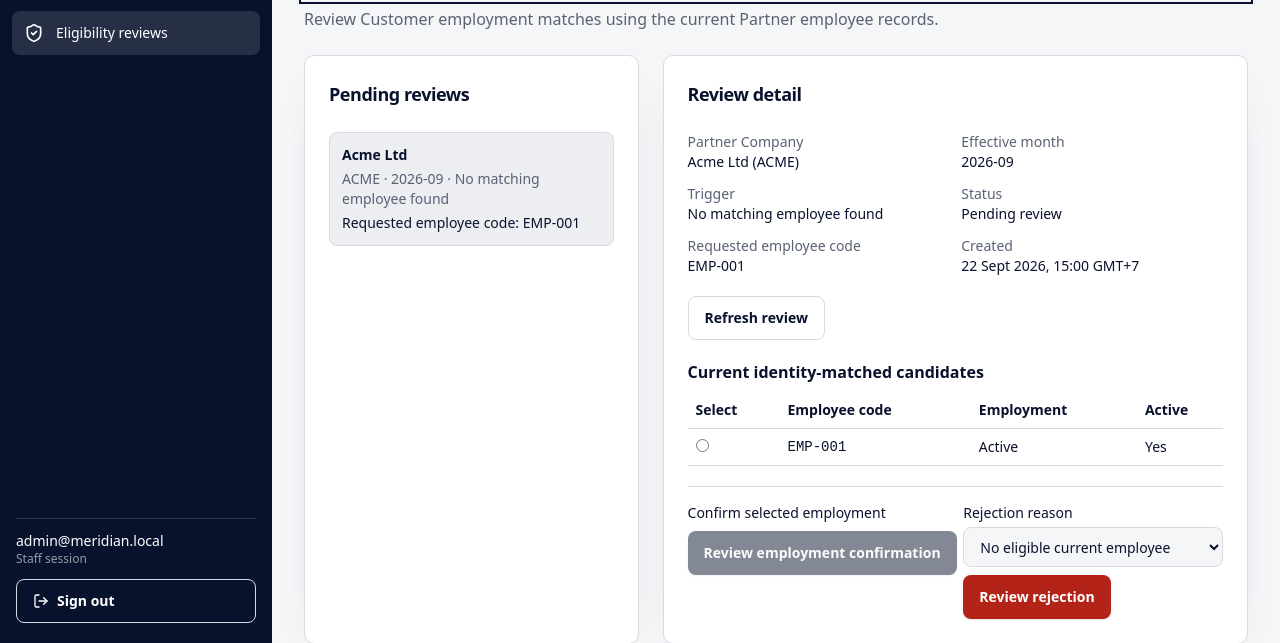
it: Partner eligibility review page › leaves an uncertain decision unconfirmed when refresh fails
Click the button "Review rejection": {"x": 1037, "y": 597} [963, 575, 1111, 619]
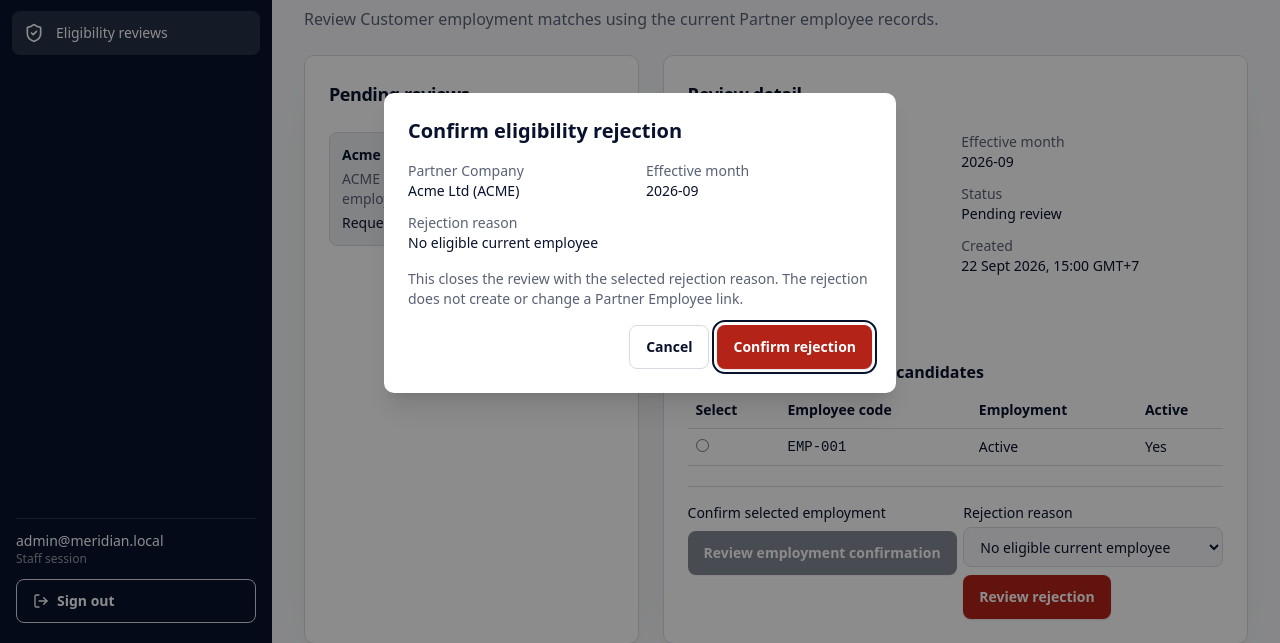
Click the button "Confirm rejection": {"x": 795, "y": 347} [718, 325, 872, 369]
(page scrolled)
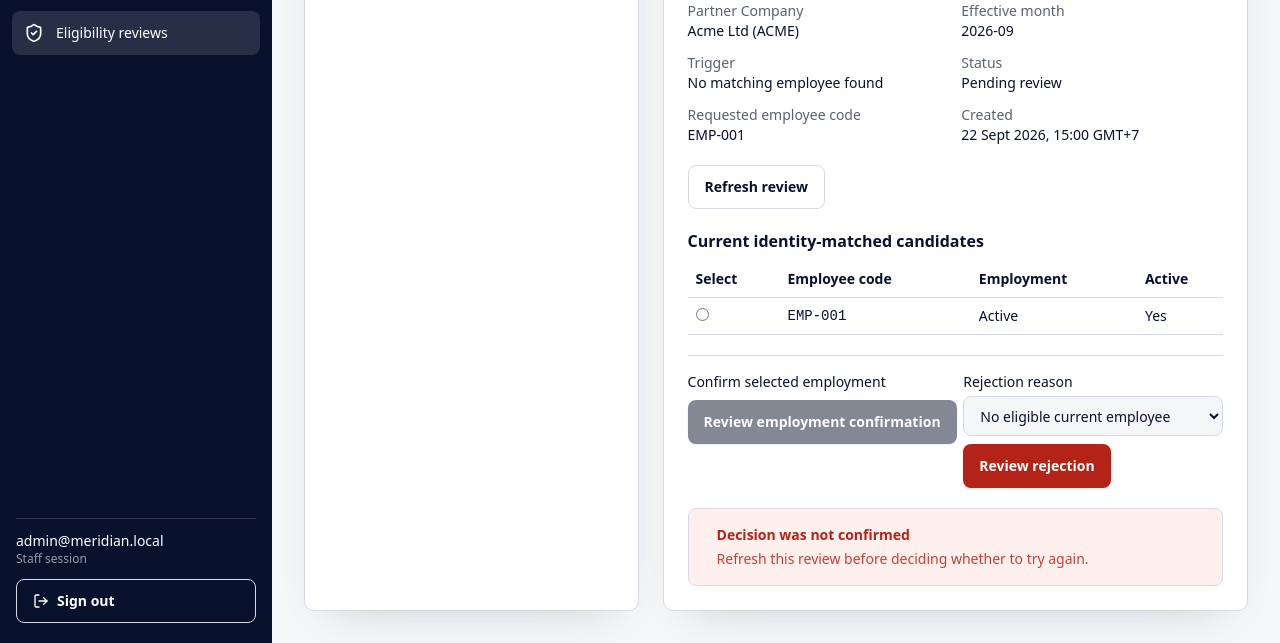
Now the heading "Decision was not confirmed" is shown, box [716, 525, 910, 544]
